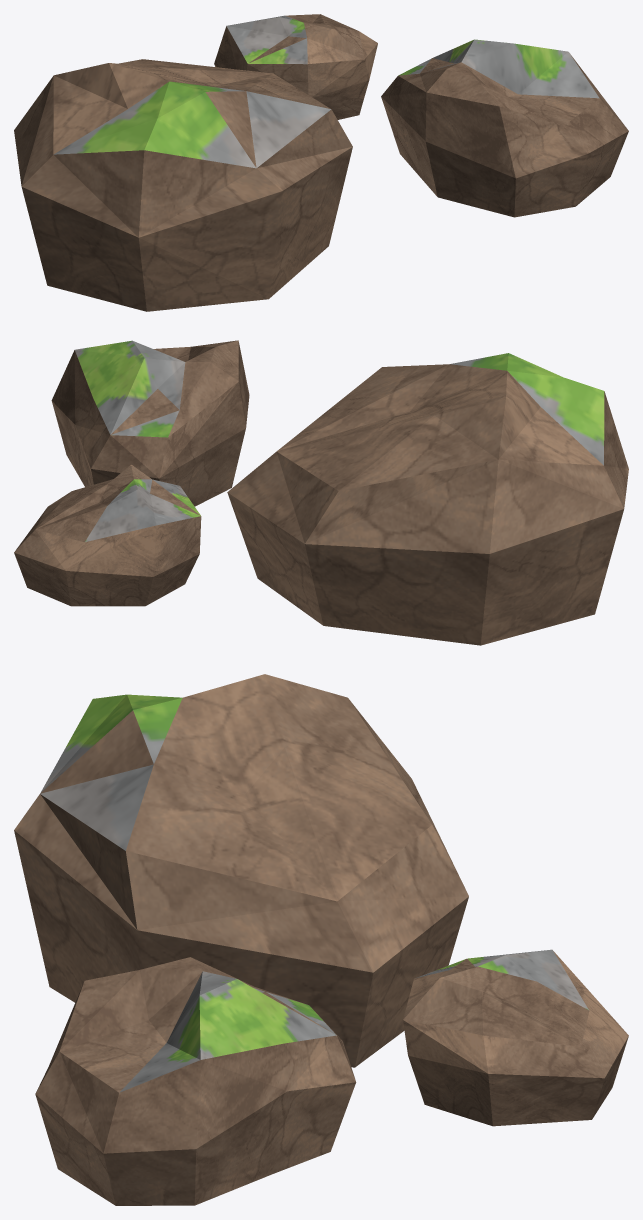
Rendered from Building_Rock_Plain_3.obj.
The picture shows the model from 3 angles, top to bottom: view 1: azimuth 30°, elevation 25°; view 2: azimuth 150°, elevation 25°; view 3: azimuth 270°, elevation 25°; orthographic projection. The views are drawn at different scales.
Visible parts, largest first — view 1: Building_Rock_Plain_3; view 2: Building_Rock_Plain_3; view 3: Building_Rock_Plain_3.
Part boxes in pixels (x1,y1,x2,y2): Building_Rock_Plain_3: (14,14,628,311); Building_Rock_Plain_3: (14,340,628,645); Building_Rock_Plain_3: (14,674,628,1205).
Bounding box in the file's own units: 0.9286 × 0.3115 × 0.6638.
Materials: 2 (2 with a texture image).
